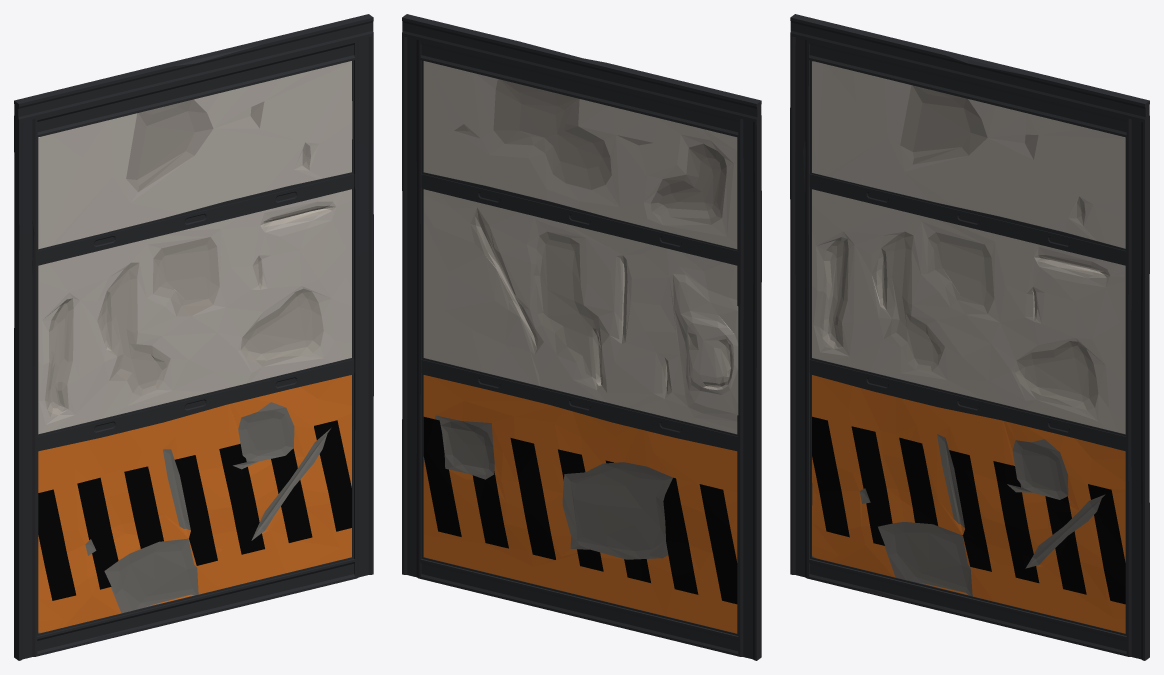
File: SM_Wall_Broken_02.gltf
The picture shows the model from 3 angles, left to right: view 1: azimuth 30°, elevation 25°; view 2: azimuth 150°, elevation 25°; view 3: azimuth 330°, elevation 25°; orthographic projection.
Parts seen in each view (by area): view 1: SM_Wall_Broken_02; view 2: SM_Wall_Broken_02; view 3: SM_Wall_Broken_02.
Boxes of the visible parts, <box> form: SM_Wall_Broken_02: <box>14,14,373,660</box>; SM_Wall_Broken_02: <box>402,14,761,660</box>; SM_Wall_Broken_02: <box>790,14,1149,660</box>.
Size of the model in its own units: 2 by 3 by 0.0572.
